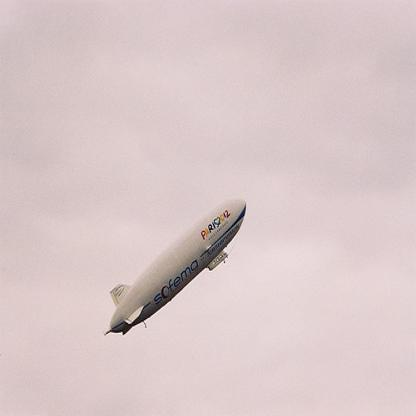Airship: (100, 195, 250, 341)
